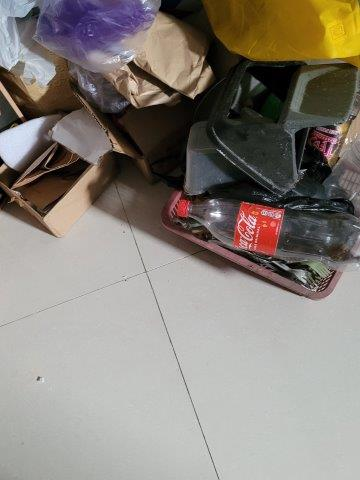botolplastik: (177, 199, 360, 264)
